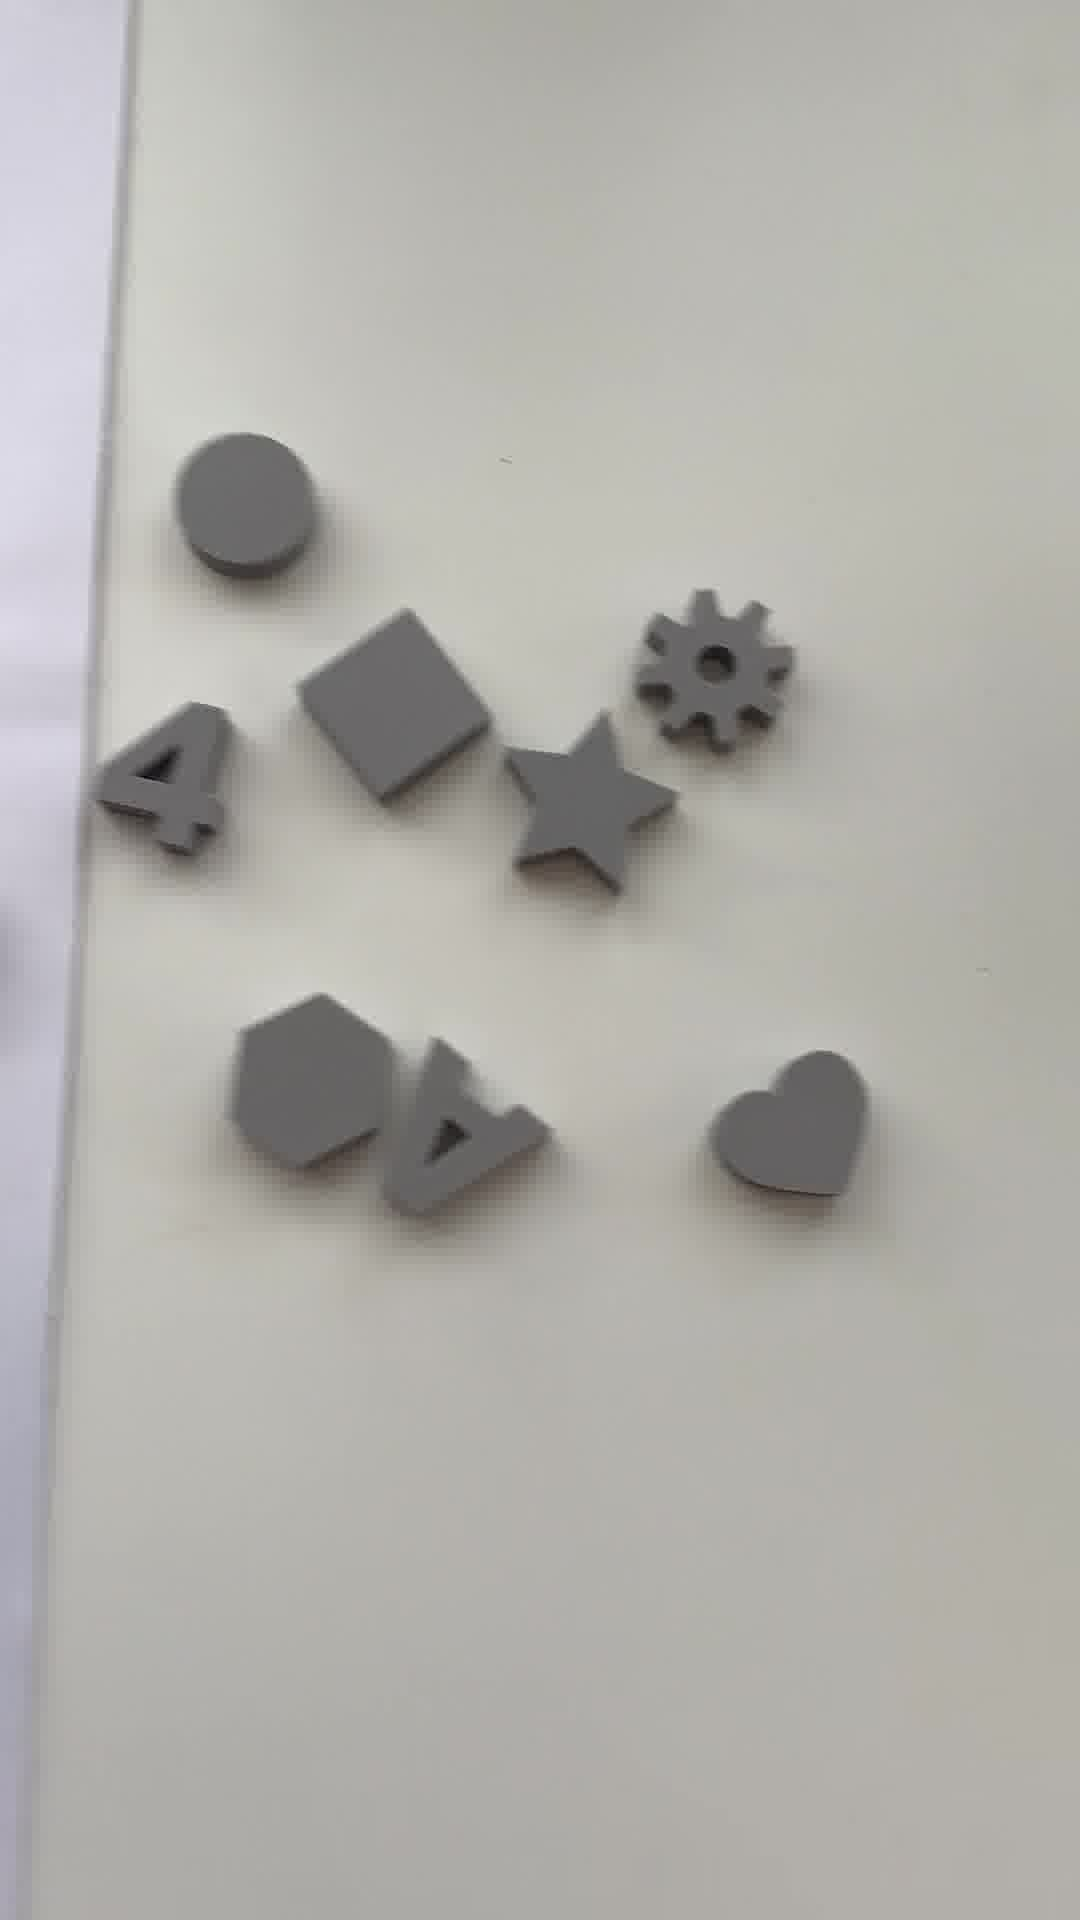Gray A-letter: (376, 1030, 555, 1238)
Gray circle: (167, 430, 320, 578)
Gray four: (73, 691, 245, 889)
Gray gear: (622, 593, 808, 760)
Gray heart: (692, 1038, 894, 1203)
Gray hexagon: (235, 985, 402, 1167)
Gray square: (287, 607, 502, 804)
Gray star: (487, 717, 674, 893)
